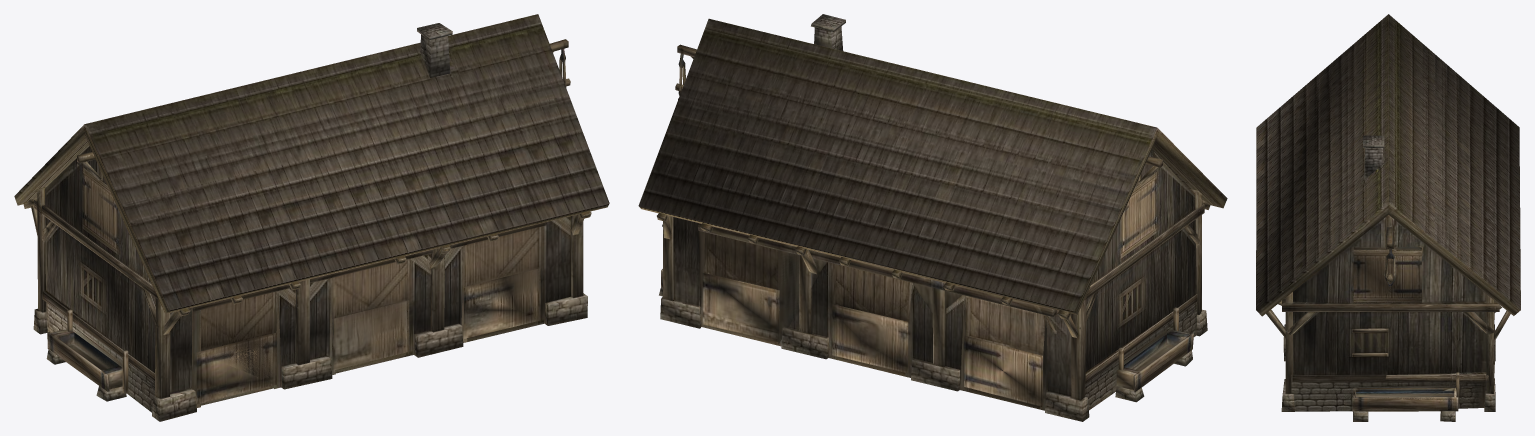
Rendered from building-stables.glb.
3 views of the same model, side by side, from view 1: azimuth 30°, elevation 25°; view 2: azimuth 150°, elevation 25°; view 3: azimuth 270°, elevation 25° (orthographic). The views are drawn at different scales.
Size of the model in its own units: 0.959 by 0.5059 by 0.5259.
1 material, 1 textured.
